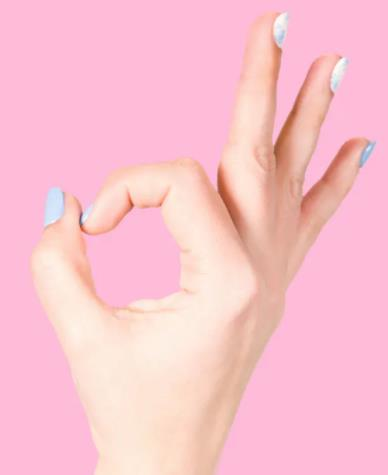left: (21, 6, 382, 435)
